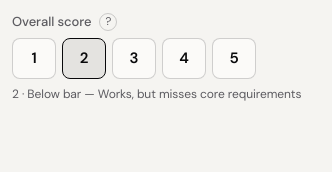
Test: the anchor line › previews on hover without a selection being made
This screenshot has width=332, height=172.
Hover over the radio button named "5 — Exceptional".
mouse_move(234, 59)  # box [212,38,256,79]
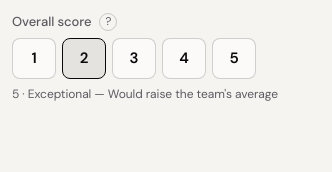
Expected: the message reads "5 · Exceptional — Would raise the team's average", [12,86,278,102]
